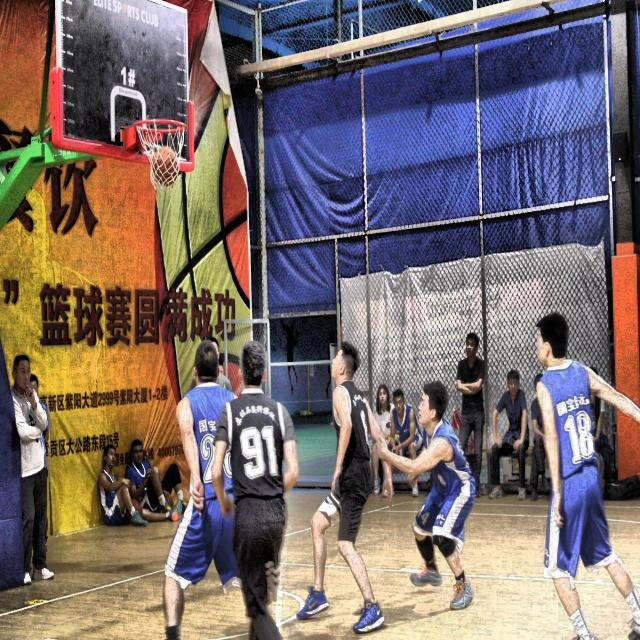rim: (135, 118, 186, 186)
